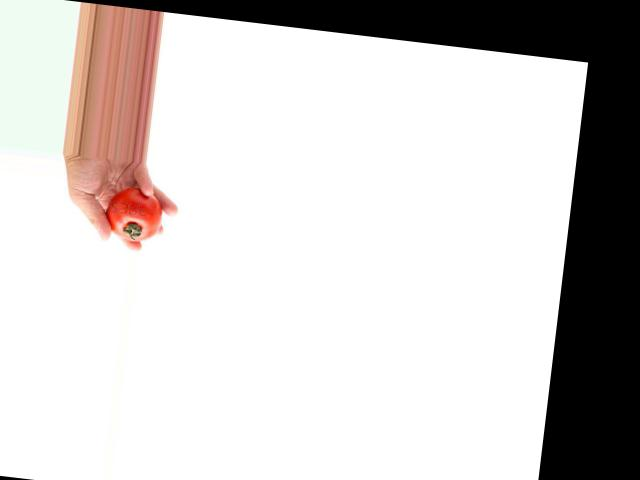tomato: (104, 185, 165, 243)
